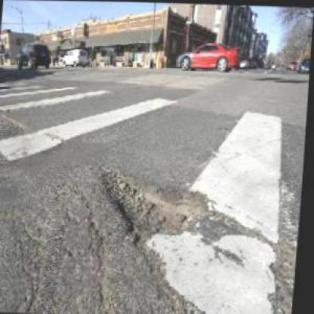Hueco: (94, 158, 222, 246)
